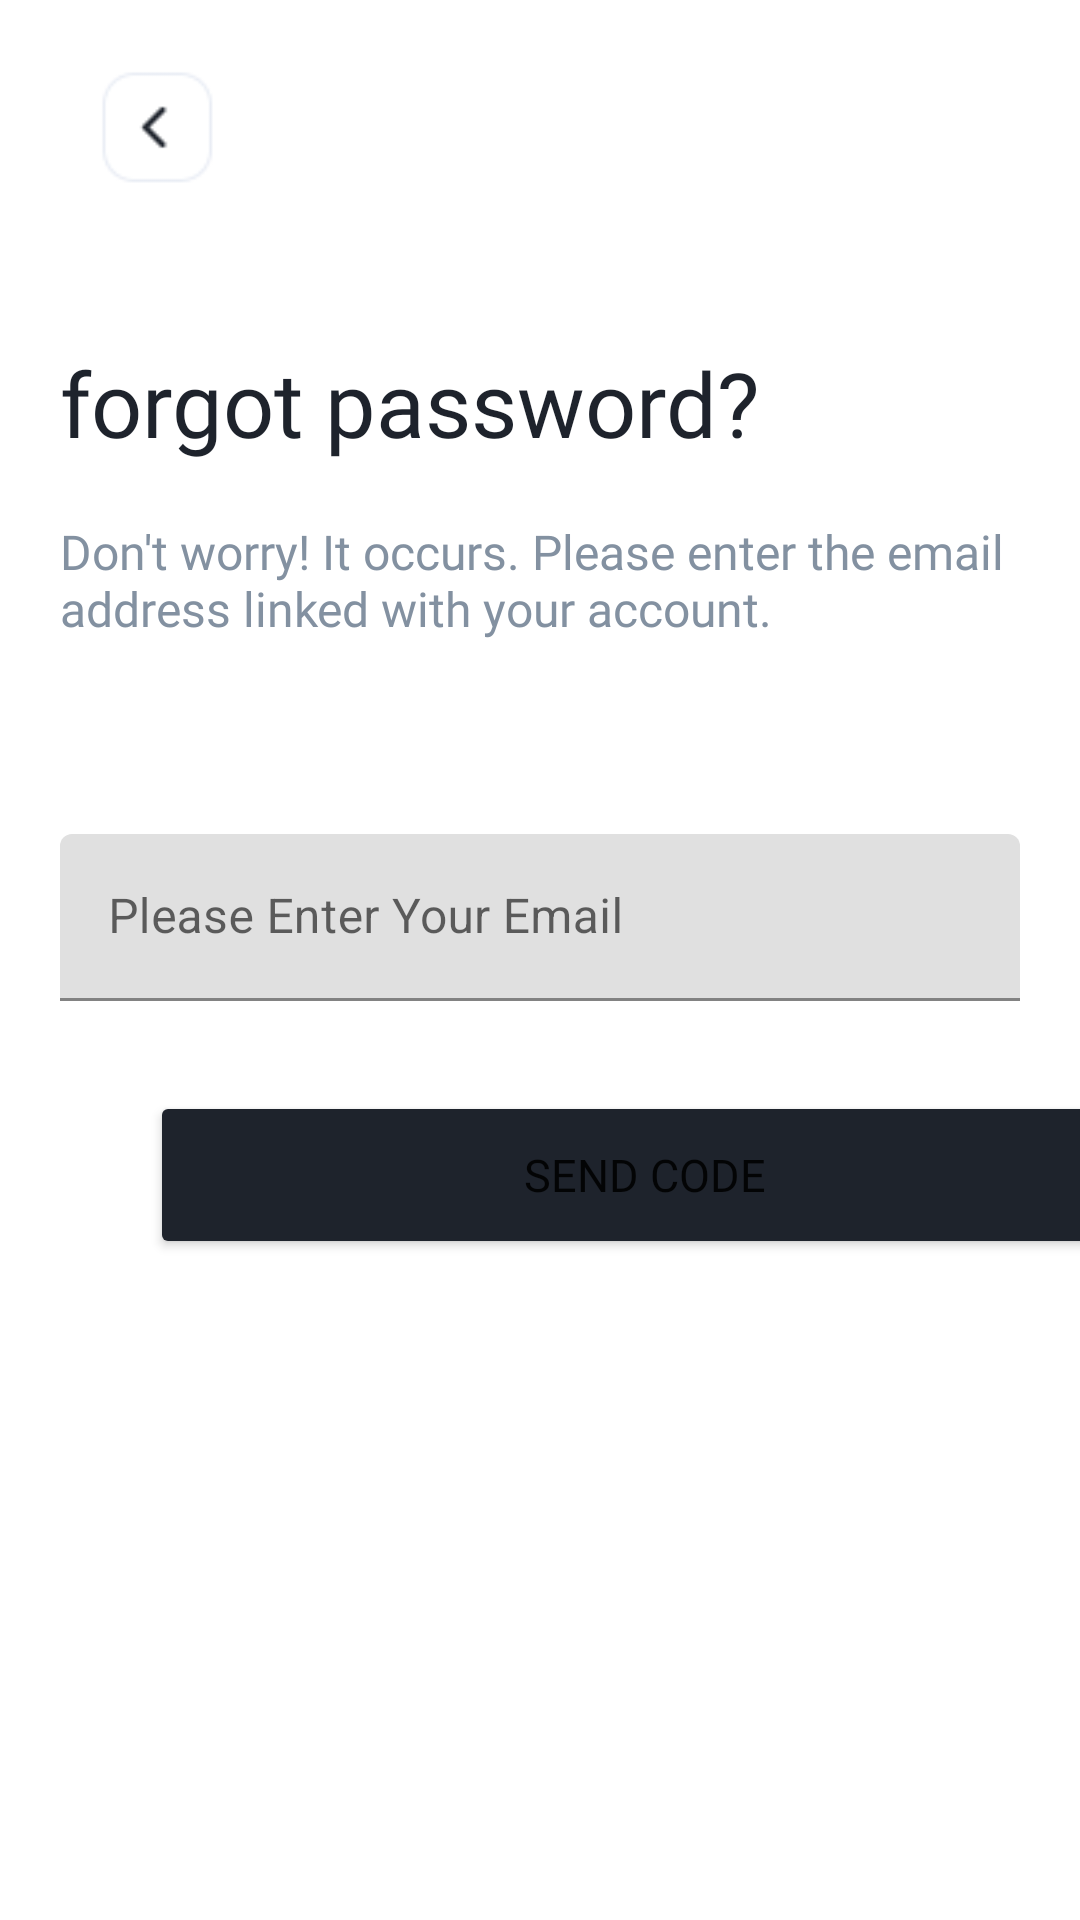

Named icons in this screenshot (1080×1920) and their bounding boxes, (x1=x1, y1=y1, x2=x2, y2=y2):
back: (x1=141, y1=106, x2=167, y2=148)
